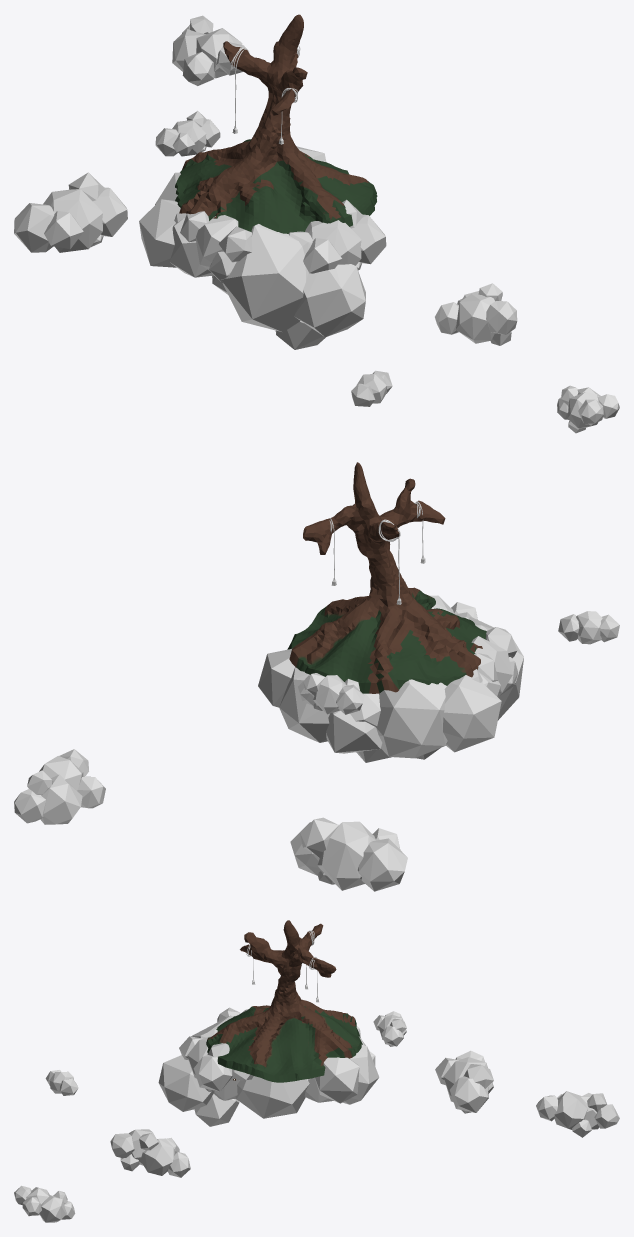
The model's file is lastScene.fbx.
3 views of the same model, one above another, from view 1: azimuth 30°, elevation 25°; view 2: azimuth 150°, elevation 25°; view 3: azimuth 270°, elevation 25° (orthographic). The views are drawn at different scales.
Parts seen in each view (by area): view 1: Circle, Cloud_3, Cloud_4.001, Cloud_4, Cloud_3.001, Cloud_2, Cloud_3.003, Cloud_1, Cloud_3.002, Cloud_4.002, Cloud_1.001; view 2: Circle, Cloud_1, Cloud_4.001, Cloud_1.002, Cloud_3.003, Cloud_2, Cloud_4.002, Cloud_1.001, Cloud_3; view 3: Circle, Cloud_3, Cloud_3.001, Cloud_3.003, Cloud_4.001, Cloud_1.002, Cloud_4, Cloud_3.002, Cloud_4.002, Cloud_1.001.
Boxes of the visible parts, left/top/right/bottom form: Circle: left=175, top=14, right=377, bottom=233; Cloud_3: left=168, top=218, right=365, bottom=349; Cloud_4.001: left=14, top=172, right=127, bottom=252; Cloud_4: left=288, top=199, right=386, bottom=273; Cloud_3.001: left=435, top=283, right=517, bottom=345; Cloud_2: left=174, top=211, right=252, bottom=283; Cloud_3.003: left=172, top=15, right=249, bottom=85; Cloud_1: left=139, top=172, right=180, bottom=267; Cloud_3.002: left=557, top=385, right=619, bottom=433; Cloud_4.002: left=155, top=111, right=220, bottom=156; Cloud_1.001: left=351, top=370, right=392, bottom=406; Circle: left=287, top=462, right=486, bottom=693; Cloud_1: left=350, top=675, right=501, bottom=758; Cloud_4.001: left=290, top=817, right=407, bottom=891; Cloud_1.002: left=258, top=649, right=382, bottom=753; Cloud_3.003: left=14, top=749, right=105, bottom=824; Cloud_2: left=471, top=627, right=518, bottom=695; Cloud_4.002: left=298, top=673, right=364, bottom=714; Cloud_1.001: left=558, top=611, right=619, bottom=644; Cloud_3: left=356, top=617, right=523, bottom=762; Circle: left=206, top=920, right=362, bottom=1082; Cloud_3: left=158, top=1015, right=333, bottom=1126; Cloud_3.001: left=110, top=1129, right=190, bottom=1177; Cloud_3.003: left=536, top=1091, right=619, bottom=1137; Cloud_4.001: left=435, top=1050, right=493, bottom=1113; Cloud_1.002: left=315, top=1044, right=379, bottom=1104; Cloud_4: left=179, top=1029, right=232, bottom=1091; Cloud_3.002: left=14, top=1185, right=75, bottom=1222; Cloud_4.002: left=373, top=1011, right=406, bottom=1046; Cloud_1.001: left=45, top=1070, right=78, bottom=1095.
Bounding box in the file's own units: 2519 × 2521 × 5438.
Materials: 4 (1 with a texture image).
